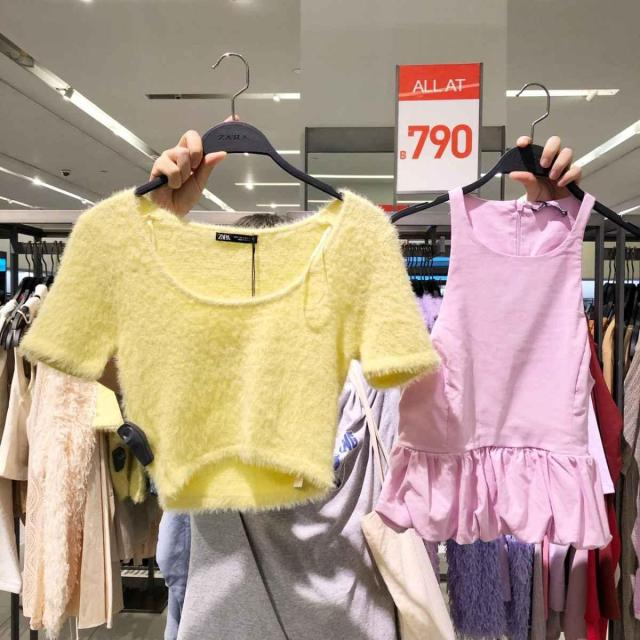Tshirt: (27, 186, 411, 501)
dress: (406, 186, 624, 564)
